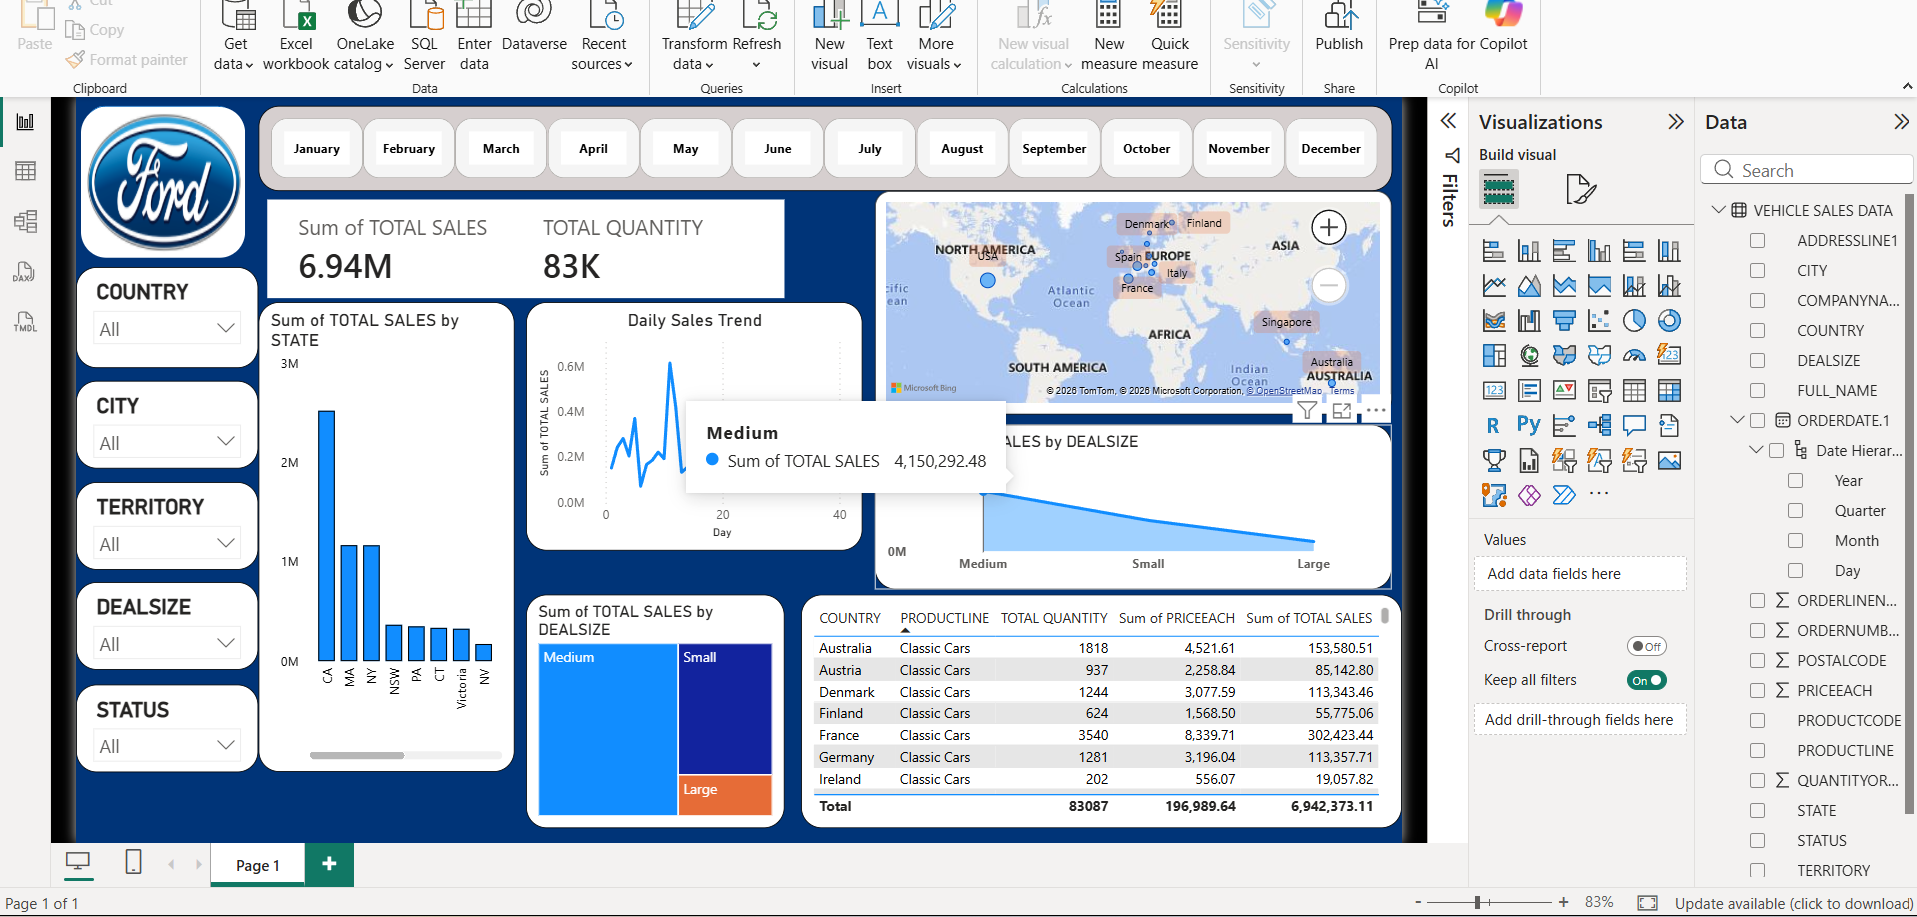

The page's visual inventory and layout, read from the dashboard file:
{"tool":"powerbi","page":{"name":"Page 1","canvas":[1280,720],"ordinal":0},"visuals":[{"type":"shape","box":[9.7,8.4,144.8,90.5],"z":0},{"type":"advancedSlicerVisual","fields":{"Values":["VEHICLE SALES DATA.ORDERDATE.1.Variation.Date Hierarchy.Month"]},"box":[176.1,8.4,1094.2,82],"z":1000},{"type":"image","box":[4.8,9.7,158,146],"z":2000},{"type":"cardVisual","fields":{"Data":["Sum(VEHICLE SALES DATA.TOTAL SALES)","VEHICLE SALES DATA.TOTAL QUANTITY"]},"box":[184.6,98.9,499.5,95.3],"z":3000},{"type":"map","fields":{"Category":["VEHICLE SALES DATA.COUNTRY"],"Size":["Sum(VEHICLE SALES DATA.TOTAL SALES)"]},"box":[770.9,90.5,499.5,216],"z":4000},{"type":"slicer","fields":{"Values":["VEHICLE SALES DATA.COUNTRY"]},"box":[0,164.1,176.1,97.7],"z":5000},{"type":"slicer","fields":{"Values":["VEHICLE SALES DATA.DEALSIZE"]},"box":[0,468.1,176.1,84.5],"z":6000},{"type":"slicer","fields":{"Values":["VEHICLE SALES DATA.STATUS"]},"box":[0,567,176.1,84.5],"z":7000},{"type":"slicer","fields":{"Values":["VEHICLE SALES DATA.TERRITORY"]},"box":[0,371.6,176.1,84.5],"z":8000},{"type":"slicer","fields":{"Values":["VEHICLE SALES DATA.CITY"]},"box":[0,273.9,176.1,84.5],"z":9000},{"type":"tableEx","fields":{"Values":["VEHICLE SALES DATA.COUNTRY","VEHICLE SALES DATA.PRODUCTLINE","VEHICLE SALES DATA.TOTAL QUANTITY","Sum(VEHICLE SALES DATA.PRICEEACH)","Sum(VEHICLE SALES DATA.TOTAL SALES)"]},"box":[699.7,480.2,580.3,225.6],"z":10000},{"type":"treemap","fields":{"Group":["VEHICLE SALES DATA.DEALSIZE"],"Values":["Sum(VEHICLE SALES DATA.TOTAL SALES)"]},"box":[434.3,480.2,249.7,225.6],"z":11000},{"type":"stackedAreaChart","fields":{"Category":["VEHICLE SALES DATA.DEALSIZE"],"Y":["Sum(VEHICLE SALES DATA.TOTAL SALES)"]},"box":[770.9,316.1,499.5,159.3],"z":11001},{"type":"clusteredColumnChart","fields":{"Category":["VEHICLE SALES DATA.STATE"],"Y":["Sum(VEHICLE SALES DATA.TOTAL SALES)"]},"box":[176.1,197.9,247.3,453.6],"z":11002},{"type":"lineChart","title":"Daily Sales Trend","fields":{"Y":["Sum(VEHICLE SALES DATA.TOTAL SALES)"],"Category":["VEHICLE SALES DATA.ORDERDATE.1.Variation.Date Hierarchy.Day"]},"box":[434.3,197.9,324.5,240.1],"z":11003}]}

Visuals, with their boxes on the page's 1280x720 design canvas (x1, y1, x2, y2). These are canvas units, not pixel positions in the 1917x917 screenshot, which may show the page scaled, cropped or inside an application window:
shape: box=[10, 8, 154, 99]
advancedSlicerVisual - VEHICLE SALES DATA.ORDERDATE.1.Variation.Date Hierarchy.Month: box=[176, 8, 1270, 90]
image: box=[5, 10, 163, 156]
cardVisual - Sum(VEHICLE SALES DATA.TOTAL SALES) x VEHICLE SALES DATA.TOTAL QUANTITY: box=[185, 99, 684, 194]
map - VEHICLE SALES DATA.COUNTRY x Sum(VEHICLE SALES DATA.TOTAL SALES): box=[771, 90, 1270, 306]
slicer - VEHICLE SALES DATA.COUNTRY: box=[0, 164, 176, 262]
slicer - VEHICLE SALES DATA.DEALSIZE: box=[0, 468, 176, 553]
slicer - VEHICLE SALES DATA.STATUS: box=[0, 567, 176, 652]
slicer - VEHICLE SALES DATA.TERRITORY: box=[0, 372, 176, 456]
slicer - VEHICLE SALES DATA.CITY: box=[0, 274, 176, 358]
tableEx - VEHICLE SALES DATA.COUNTRY x VEHICLE SALES DATA.PRODUCTLINE: box=[700, 480, 1280, 706]
treemap - VEHICLE SALES DATA.DEALSIZE x Sum(VEHICLE SALES DATA.TOTAL SALES): box=[434, 480, 684, 706]
stackedAreaChart - VEHICLE SALES DATA.DEALSIZE x Sum(VEHICLE SALES DATA.TOTAL SALES): box=[771, 316, 1270, 475]
clusteredColumnChart - VEHICLE SALES DATA.STATE x Sum(VEHICLE SALES DATA.TOTAL SALES): box=[176, 198, 423, 652]
"Daily Sales Trend" lineChart: box=[434, 198, 759, 438]
